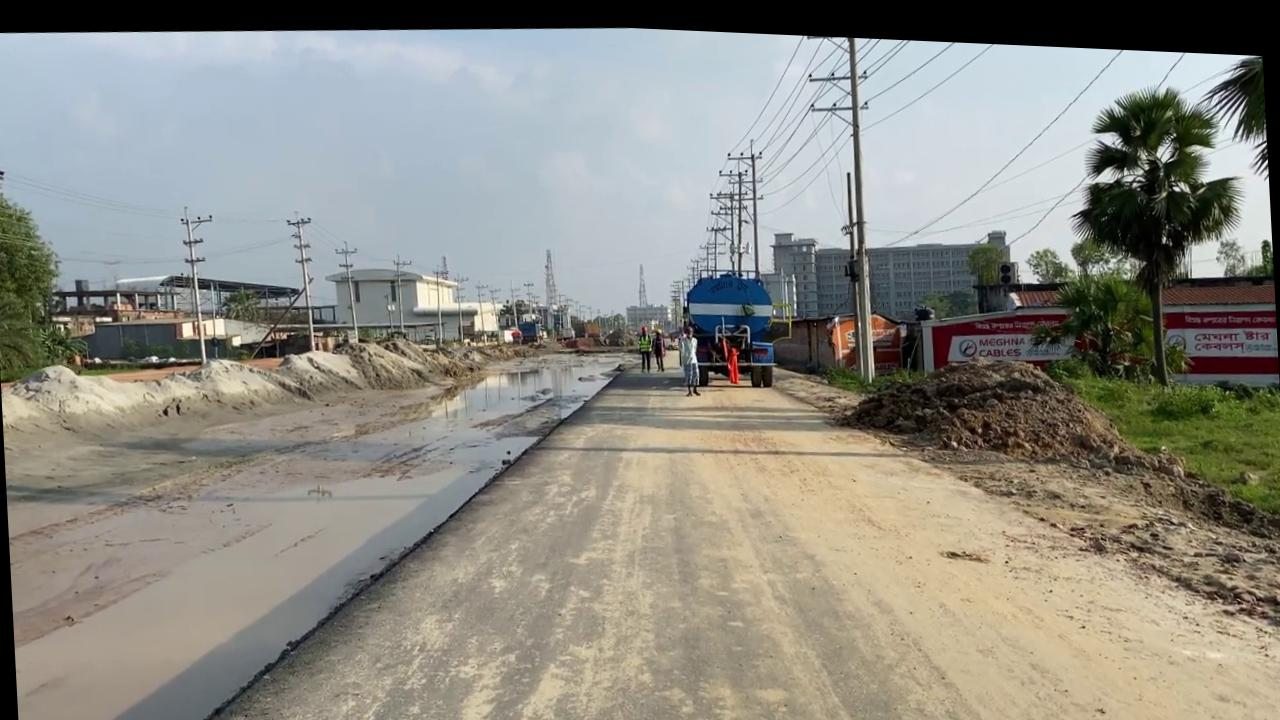Garbage: (833, 332, 1142, 475)
Obstacle: (691, 308, 774, 382), (712, 311, 752, 378)
Sidewalk: (0, 319, 651, 720)
Stuck-water: (724, 340, 740, 378)
Traffic-sign: (1060, 65, 1254, 382), (0, 177, 67, 383)
Tree: (670, 128, 780, 384), (825, 300, 905, 368), (500, 314, 540, 341)
